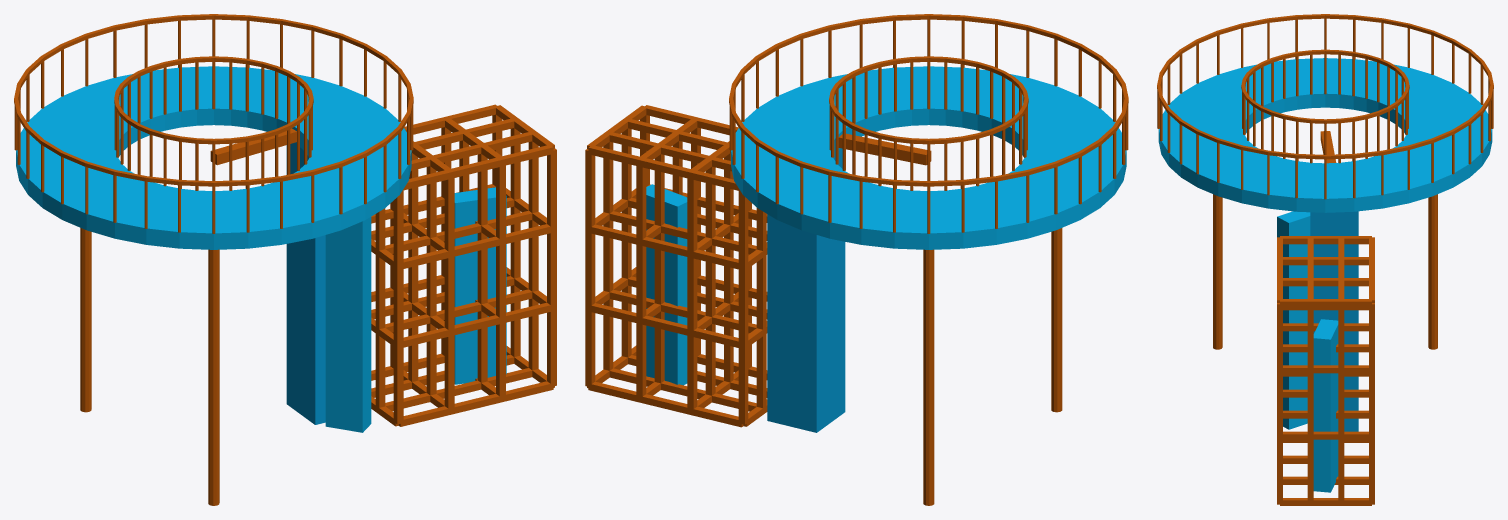
File: folie_tag_148.glb
3 views of the same model, side by side, from view 1: azimuth 30°, elevation 25°; view 2: azimuth 150°, elevation 25°; view 3: azimuth 270°, elevation 25° (orthographic). The views are drawn at different scales.
Parts seen in each view (by area): view 1: folie_tag_148_00_ring, folie_tag_148_01_cage, folie_tag_148_line, folie_tag_148_03_fin, folie_tag_148_core, folie_tag_148_02_fin; view 2: folie_tag_148_00_ring, folie_tag_148_01_cage, folie_tag_148_line, folie_tag_148_core, folie_tag_148_02_fin; view 3: folie_tag_148_00_ring, folie_tag_148_line, folie_tag_148_01_cage, folie_tag_148_core, folie_tag_148_02_fin, folie_tag_148_03_fin.
Boxes of the visible parts, <box> form: folie_tag_148_00_ring: <box>16,66,411,249</box>; folie_tag_148_01_cage: <box>371,104,556,426</box>; folie_tag_148_line: <box>14,14,413,505</box>; folie_tag_148_03_fin: <box>325,217,371,432</box>; folie_tag_148_core: <box>286,143,325,424</box>; folie_tag_148_02_fin: <box>454,187,506,384</box>; folie_tag_148_00_ring: <box>731,66,1126,249</box>; folie_tag_148_01_cage: <box>585,105,767,427</box>; folie_tag_148_line: <box>729,14,1128,505</box>; folie_tag_148_core: <box>767,148,845,432</box>; folie_tag_148_02_fin: <box>646,184,687,385</box>; folie_tag_148_00_ring: <box>1158,58,1492,212</box>; folie_tag_148_line: <box>1157,14,1493,349</box>; folie_tag_148_01_cage: <box>1277,236,1374,505</box>; folie_tag_148_core: <box>1310,211,1358,431</box>; folie_tag_148_02_fin: <box>1313,319,1338,492</box>; folie_tag_148_03_fin: <box>1277,211,1310,429</box>.
Size of the model in its own units: 10.81 by 7.33 by 7.68.
